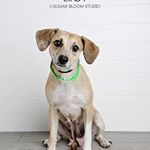puppy: (31, 26, 117, 150)
